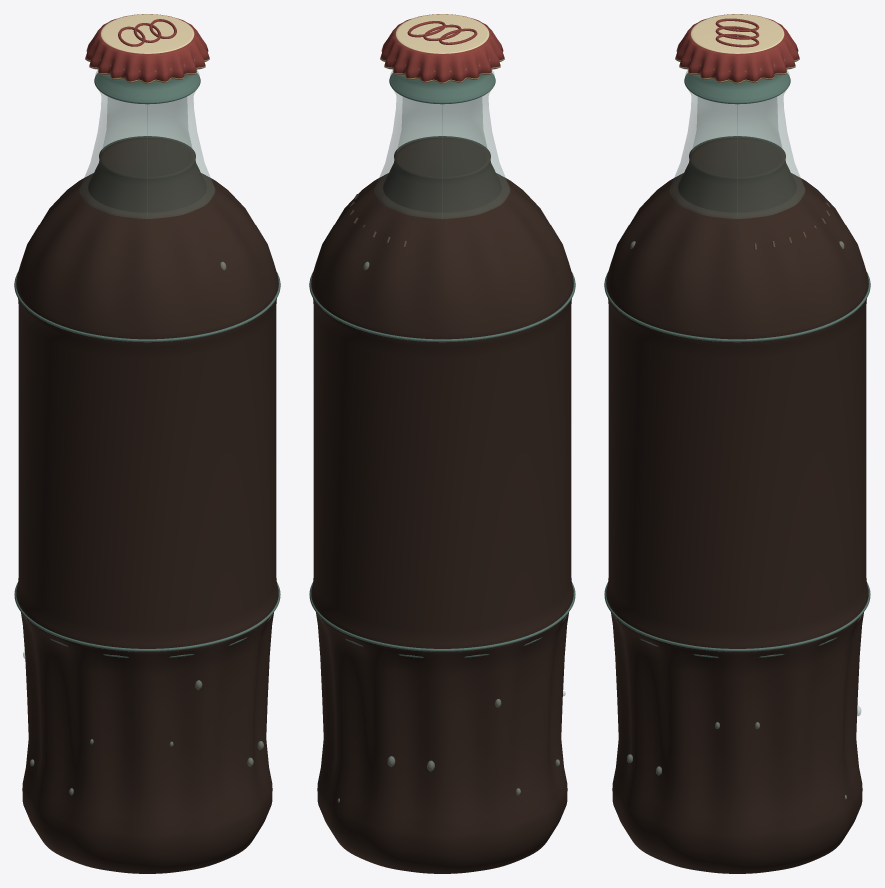
The model's file is cola.glb.
3 views of the same model, side by side, from view 1: azimuth 30°, elevation 25°; view 2: azimuth 150°, elevation 25°; view 3: azimuth 270°, elevation 25° (orthographic).
Parts seen in each view (by area): view 1: Bottle glass · flint brown, filled, Bottle glass · green rim, Cola and meniscus, Mould edge · teal glass, Pressed steel · oxblood enamel, Crown lithograph · ivory; view 2: Bottle glass · flint brown, filled, Bottle glass · green rim, Cola and meniscus, Mould edge · teal glass, Pressed steel · oxblood enamel, Crown lithograph · ivory; view 3: Bottle glass · flint brown, filled, Bottle glass · green rim, Cola and meniscus, Mould edge · teal glass, Pressed steel · oxblood enamel, Crown lithograph · ivory.
Boxes of the visible parts, x1,y1,x2,y2 form: Bottle glass · flint brown, filled: (16, 173, 278, 873); Bottle glass · green rim: (80, 59, 214, 218); Cola and meniscus: (88, 136, 206, 212); Mould edge · teal glass: (14, 73, 280, 657); Pressed steel · oxblood enamel: (85, 14, 209, 82); Crown lithograph · ivory: (100, 14, 194, 53); Bottle glass · flint brown, filled: (311, 173, 573, 873); Bottle glass · green rim: (375, 59, 509, 218); Cola and meniscus: (383, 136, 501, 212); Mould edge · teal glass: (309, 73, 575, 657); Pressed steel · oxblood enamel: (380, 14, 504, 82); Crown lithograph · ivory: (395, 14, 489, 53); Bottle glass · flint brown, filled: (606, 173, 868, 873); Bottle glass · green rim: (670, 59, 804, 218); Cola and meniscus: (678, 136, 796, 212); Mould edge · teal glass: (604, 73, 870, 657); Pressed steel · oxblood enamel: (675, 14, 799, 82); Crown lithograph · ivory: (690, 14, 784, 53).
Bounding box in the file's own units: 0.0762 × 0.2531 × 0.0762.
